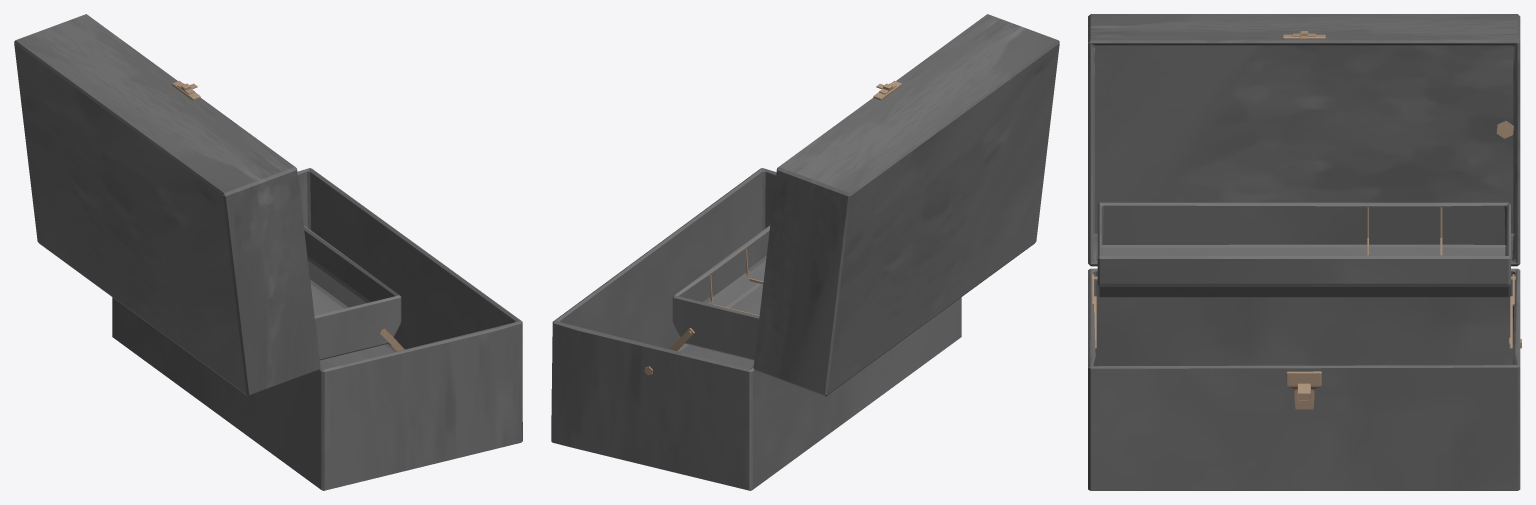
Rendered from Tool_Box.fbx.
The picture shows the model from 3 angles, left to right: view 1: azimuth 30°, elevation 25°; view 2: azimuth 150°, elevation 25°; view 3: azimuth 270°, elevation 25°; orthographic projection. The views are drawn at different scales.
Visible parts, largest first — view 1: Cube.033; view 2: Cube.033; view 3: Cube.033.
Boxes of the visible parts, x1,y1,x2,y2 form: Cube.033: (14, 14, 522, 490); Cube.033: (551, 14, 1059, 490); Cube.033: (1088, 14, 1521, 490).
Bounding box in the file's own units: 1.37 × 1.43 × 1.63.
